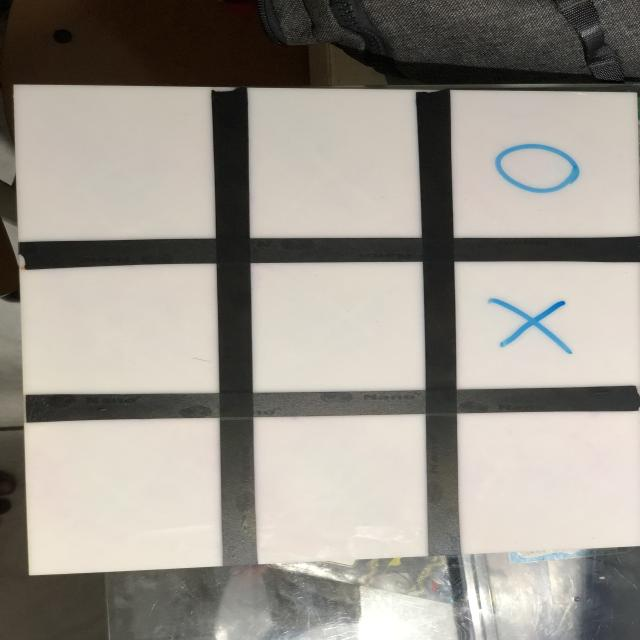null: (25, 414, 229, 575), (17, 78, 215, 242), (252, 411, 434, 562), (26, 260, 219, 396), (458, 411, 640, 547), (254, 88, 420, 235), (252, 262, 426, 392)
o: (490, 142, 588, 200)
x: (485, 294, 582, 361)
